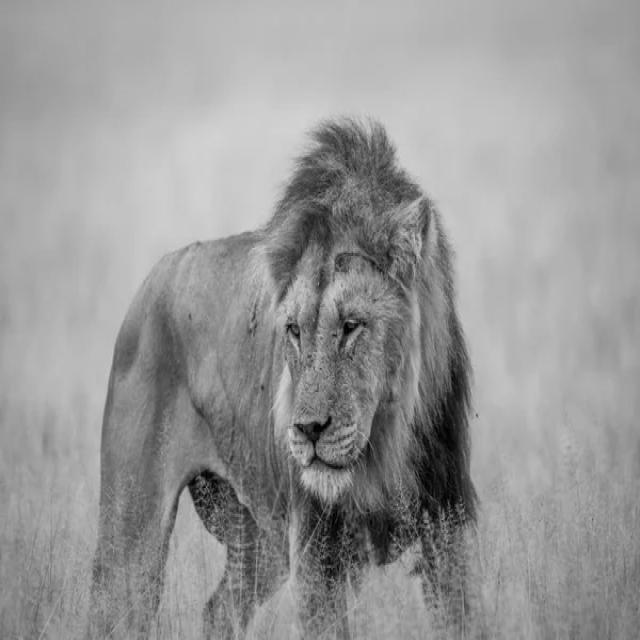Animal: (90, 123, 485, 639)
